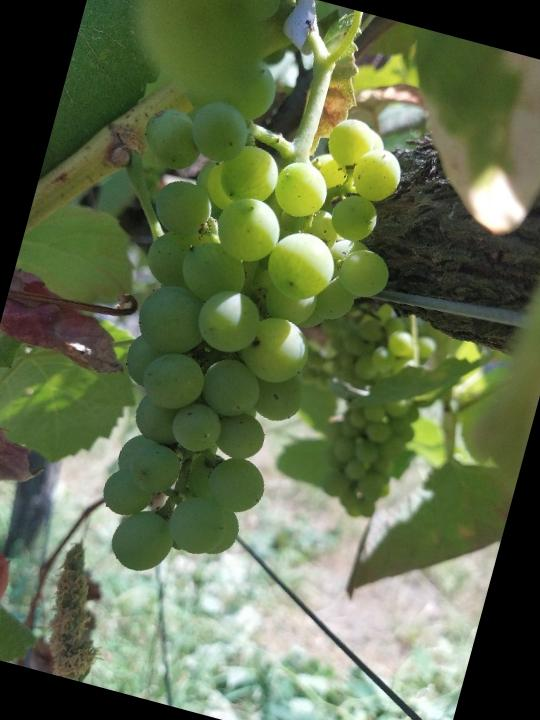grape: (29, 63, 430, 617)
